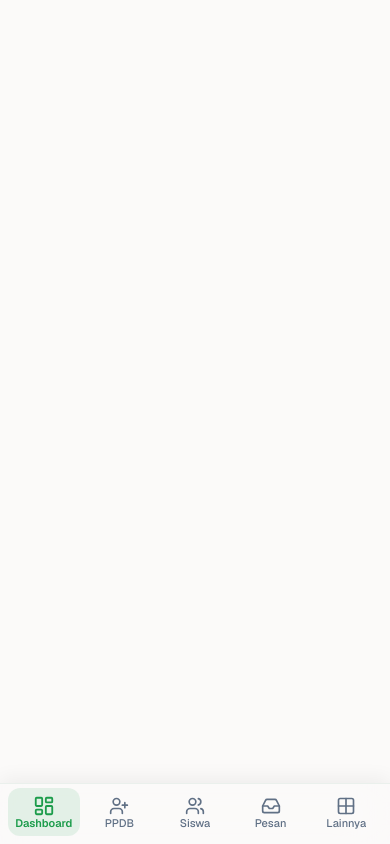
Test: AdminNavigationWrapper › opens AdminMoreSheet when Lainnya button is clicked
# Click Lainnya button
Click the button "Lainnya" at (346, 812), box [310,788,382,836]
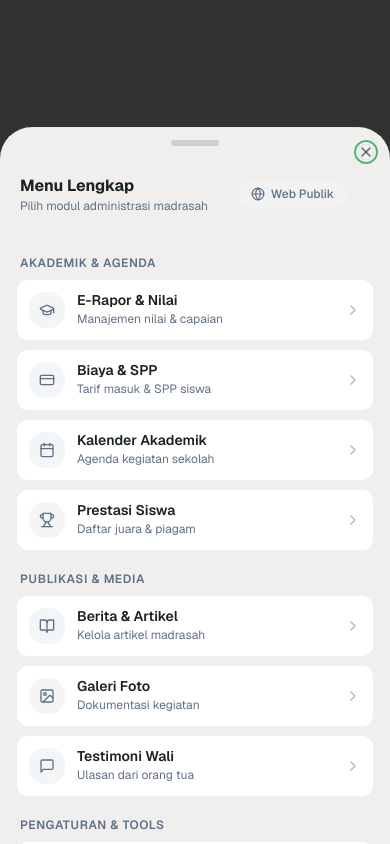
Result: the heading "Menu Lengkap" is shown at [20,175,134,196]
Result: the heading "Akademik & Agenda" is shown at [20,255,156,271]
Result: the heading "Publikasi & Media" is shown at [20,571,145,587]
